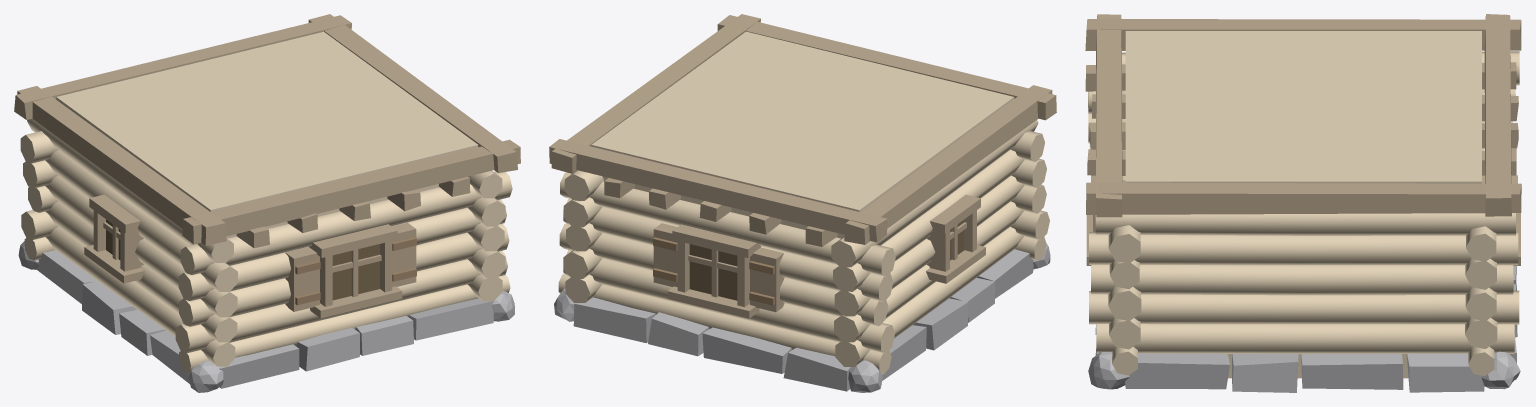
Rendered from building.squareroom.glb.
3 views of the same model, side by side, from view 1: azimuth 30°, elevation 25°; view 2: azimuth 150°, elevation 25°; view 3: azimuth 270°, elevation 25° (orthographic). The views are drawn at different scales.
Visible parts, largest first — view 1: Paint, PaintDark, Stone, Door, Wood; view 2: Paint, PaintDark, Stone, Door, Wood; view 3: Paint, PaintDark, Stone.
Part boxes in pixels (box(x1,y1,x2,y2)): Paint: box(20, 31, 512, 373); PaintDark: box(14, 14, 520, 318); Stone: box(18, 241, 514, 392); Door: box(106, 219, 379, 300); Wood: box(295, 237, 416, 305); Paint: box(558, 31, 1049, 374); PaintDark: box(549, 14, 1056, 318); Stone: box(554, 244, 1050, 392); Door: box(689, 220, 964, 300); Wood: box(653, 237, 774, 305); Paint: box(1088, 31, 1519, 378); PaintDark: box(1085, 14, 1521, 265); Stone: box(1088, 266, 1520, 392).
Bounding box in the file's own units: 2.01 × 1 × 2.01.
